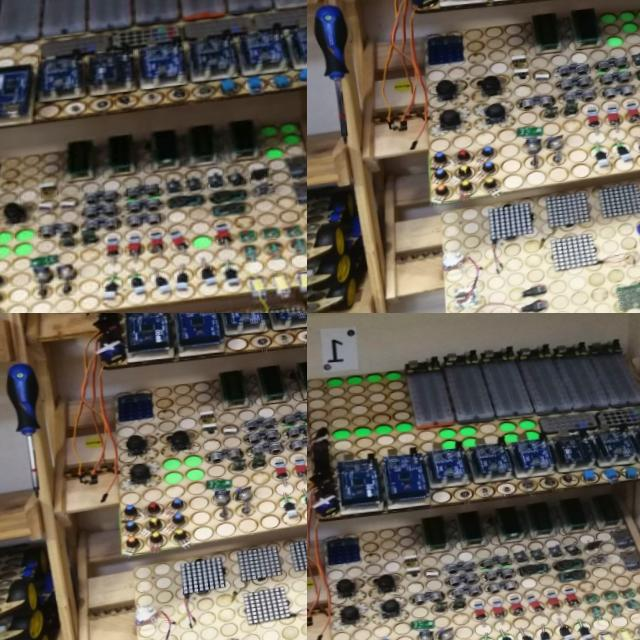Green-circles: (328, 417, 417, 443), (158, 453, 207, 489), (261, 128, 301, 169), (326, 373, 399, 394), (494, 421, 540, 451), (438, 425, 477, 458), (0, 229, 35, 263), (599, 14, 634, 31), (187, 238, 211, 262), (603, 38, 623, 54), (619, 26, 638, 41)
